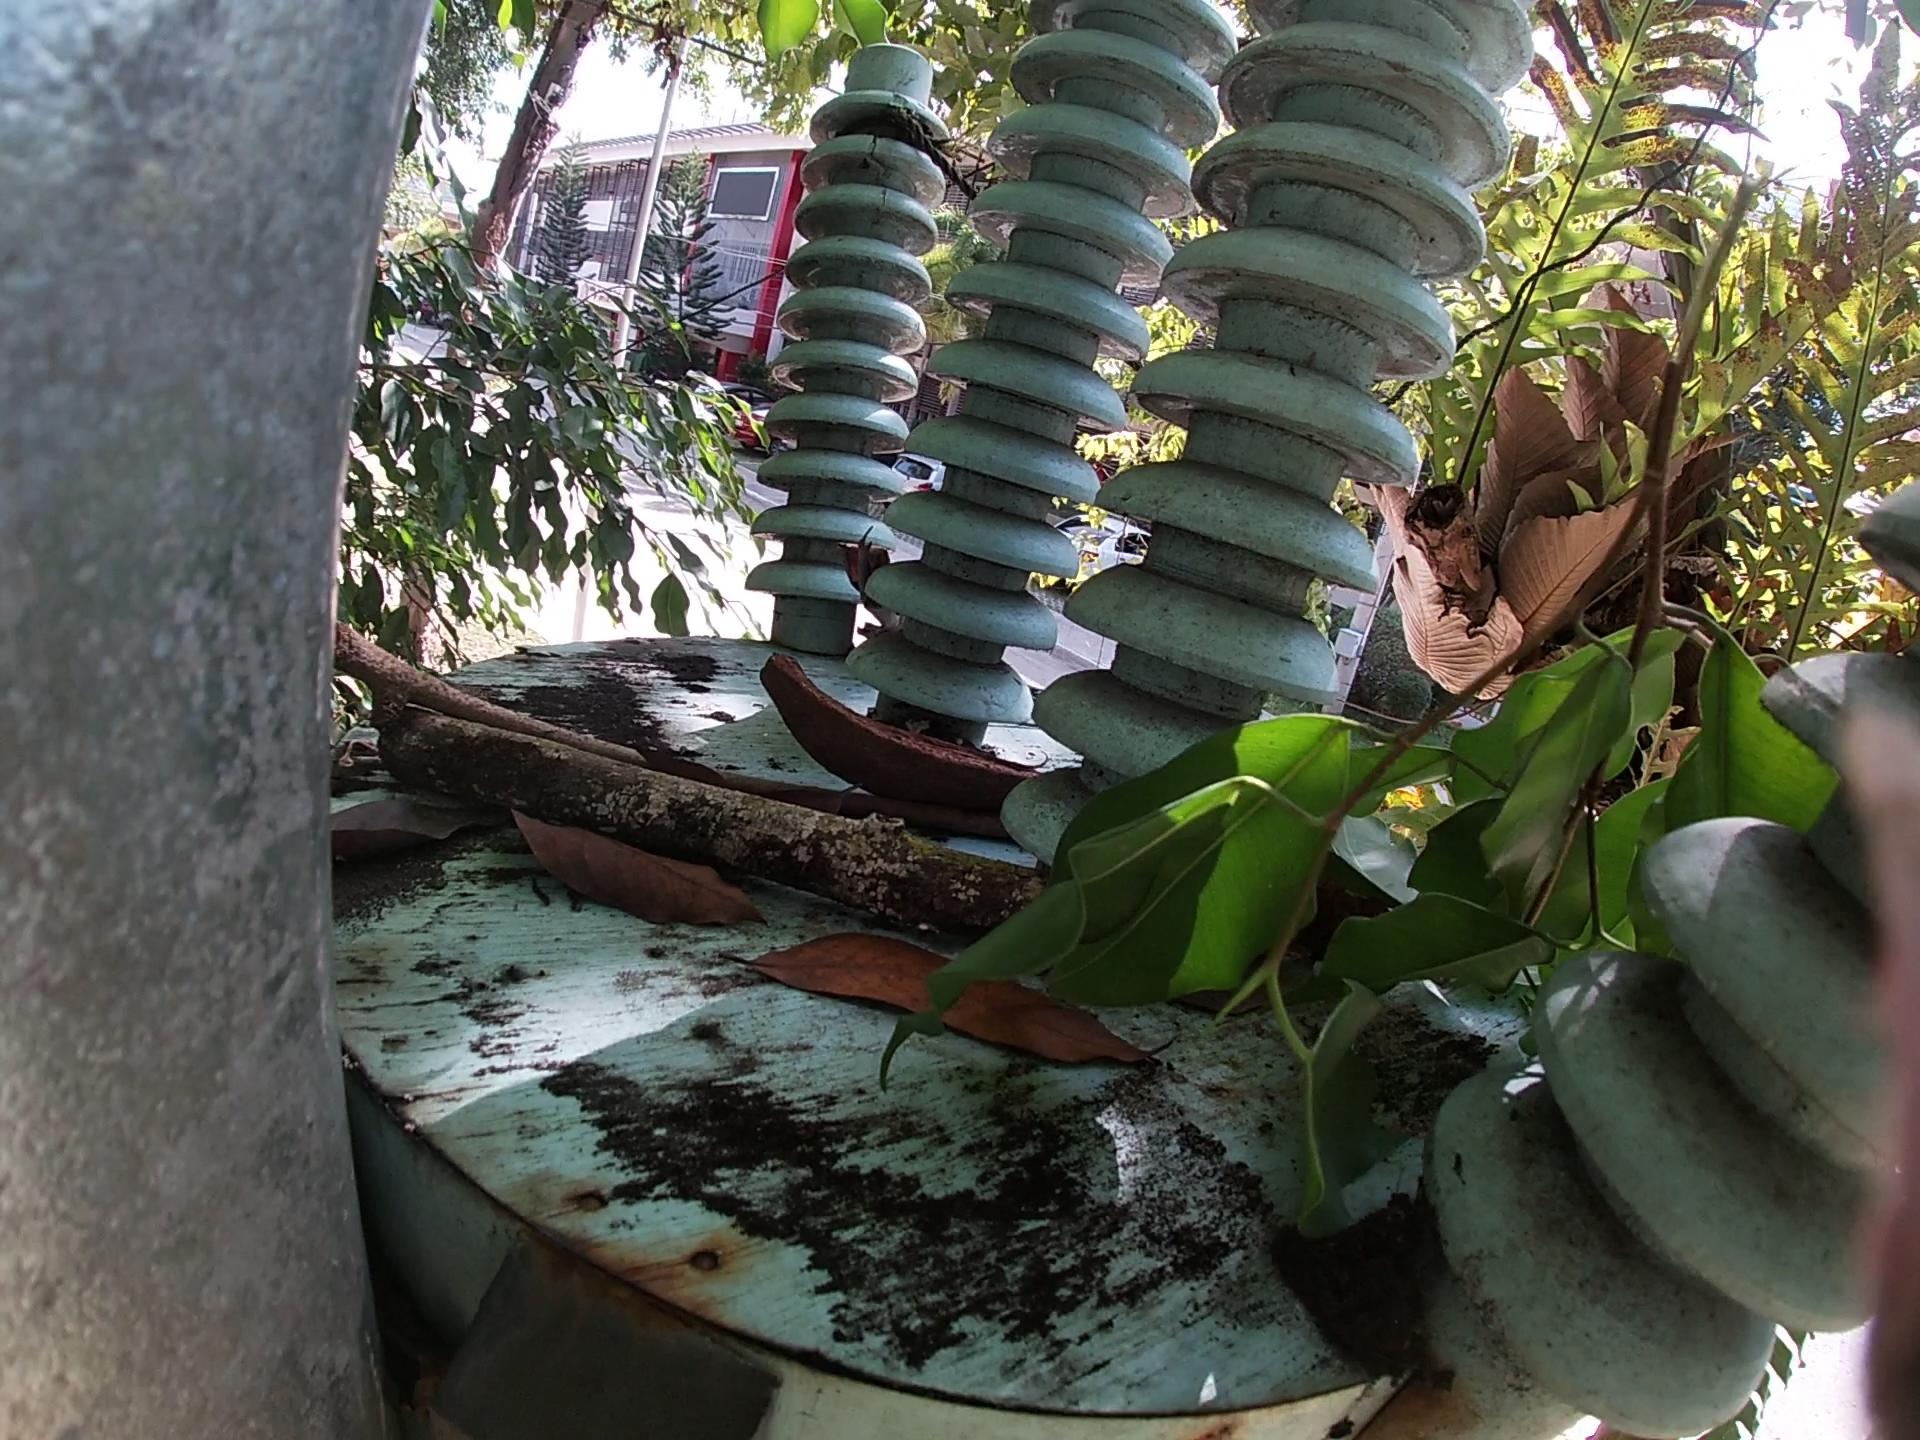branch with leaves: (934, 154, 1844, 1337)
leaf: (735, 936, 1169, 1072), (516, 806, 763, 924), (316, 796, 481, 859)
mahogany fruit: (742, 638, 1079, 833)
tree branch: (373, 694, 1101, 920), (324, 629, 887, 809)
